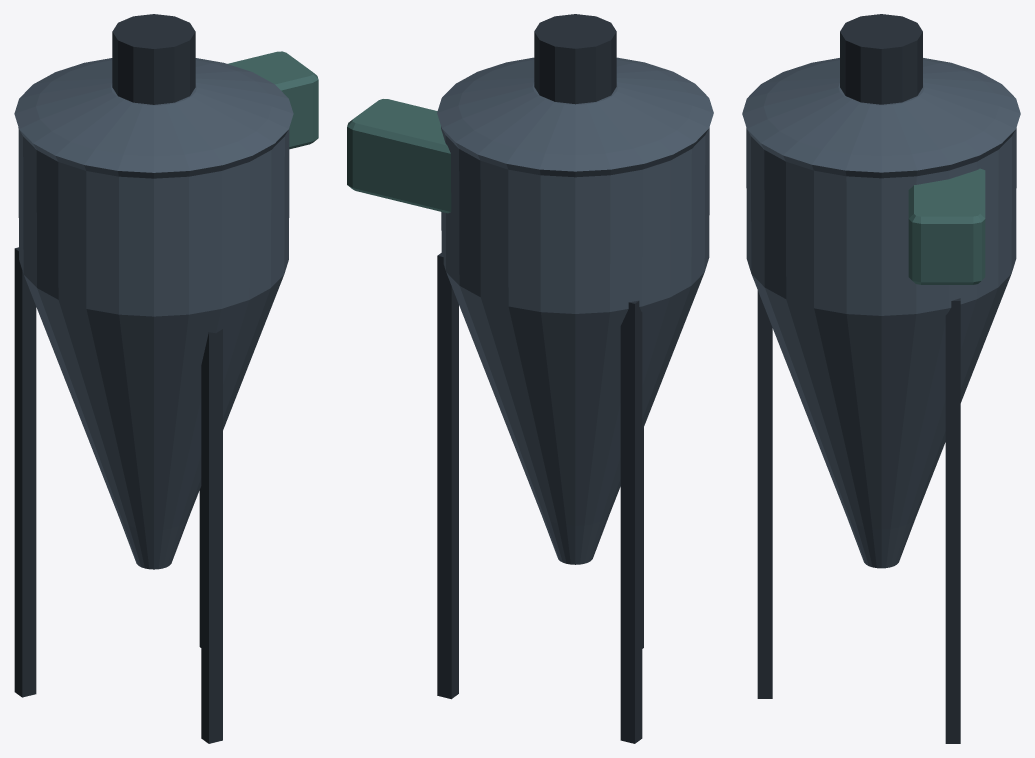
The model's file is E-02_cyclone.glb.
The picture shows the model from 3 angles, left to right: view 1: azimuth 30°, elevation 25°; view 2: azimuth 150°, elevation 25°; view 3: azimuth 270°, elevation 25°; orthographic projection.
Visible parts, largest first — view 1: E-02_cyclone; view 2: E-02_cyclone; view 3: E-02_cyclone.
Part boxes in pixels (x1=…): E-02_cyclone: x1=14, y1=14, x2=318, y2=743; E-02_cyclone: x1=347, y1=14, x2=713, y2=743; E-02_cyclone: x1=742, y1=14, x2=1020, y2=743.
Size of the model in its own units: 0.684 by 1.43 by 0.544.
